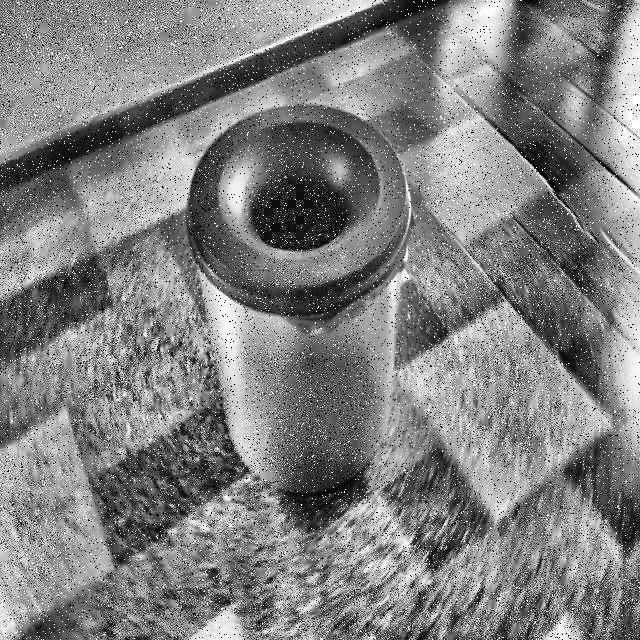Dustbin: (165, 64, 428, 509)
